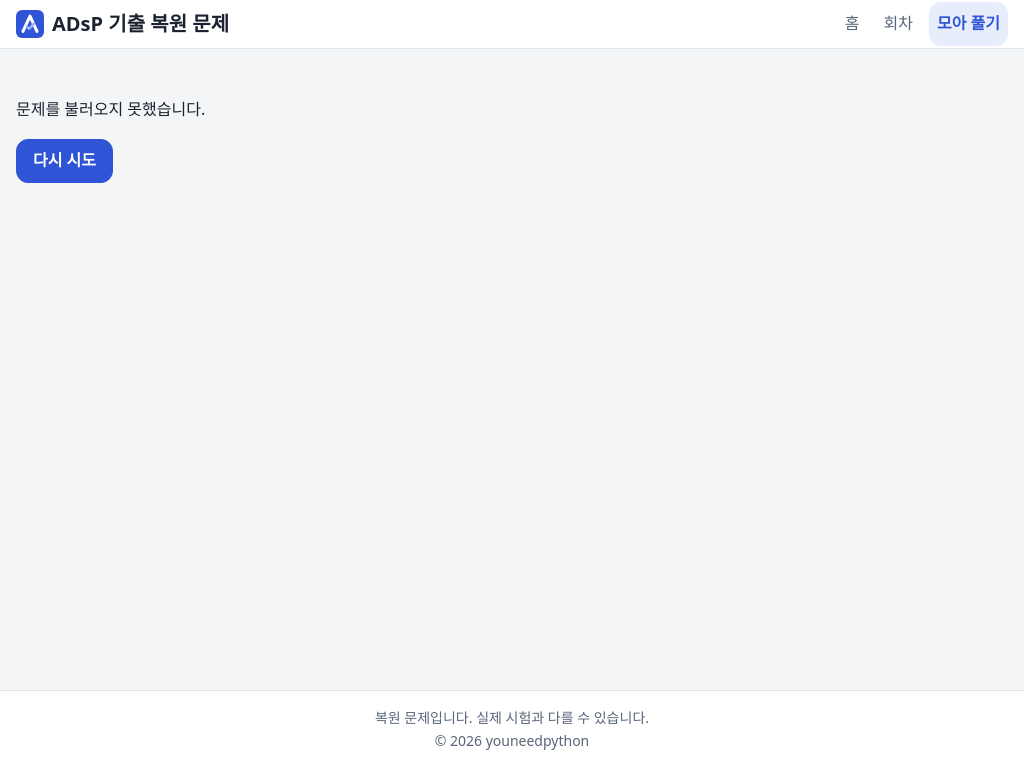
Test: explicit set retry can recover a failed shared topic request
This screenshot has width=1024, height=768.
expect the message "문제를 불러오지 못했습니다. 다시 시도" is shown: met, box [16,98,205,183]
Click the button "다시 시도" at [64, 161], box [16,139,113,183]
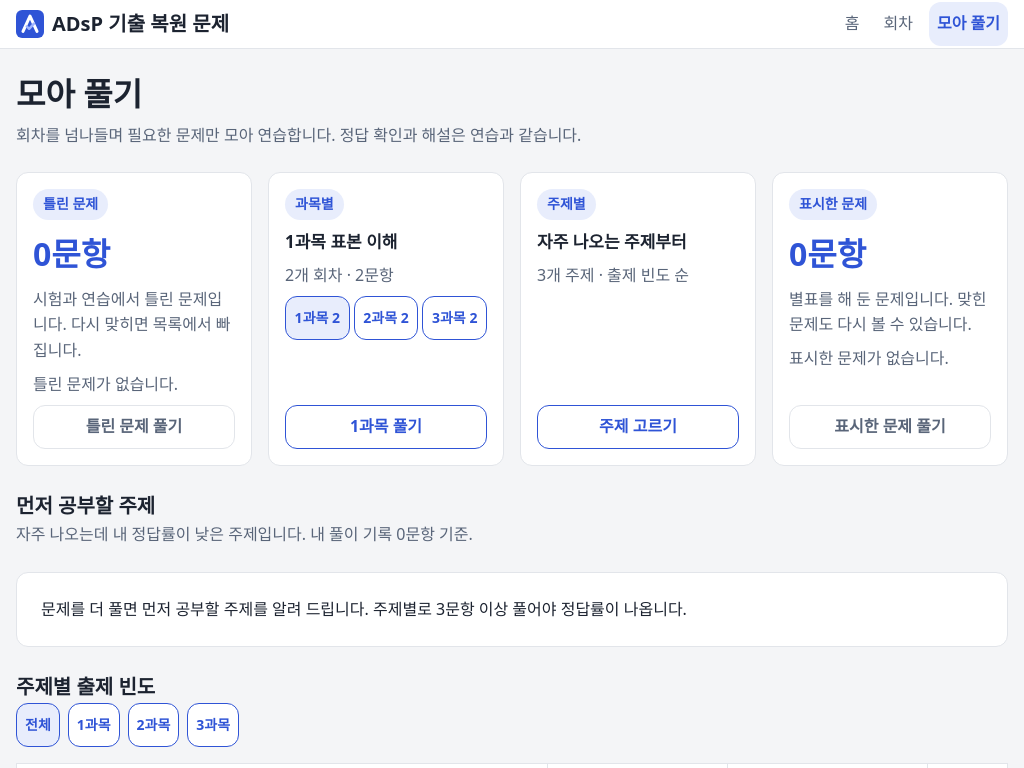
expect the text "자주 나오는 주제부터" is shown: met, box [537,230,687,253]
